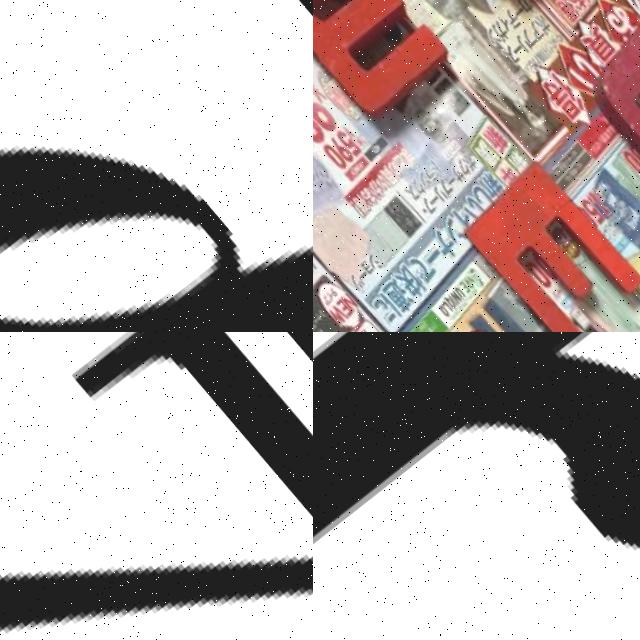7: (0, 332, 313, 640)
D: (0, 0, 313, 332)
E: (446, 148, 640, 332)
R: (313, 332, 640, 640)
U: (566, 0, 640, 202)
W: (313, 0, 456, 126)
